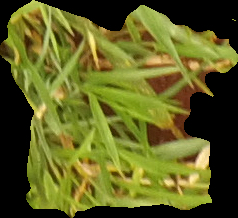grass: (1, 1, 237, 216)
